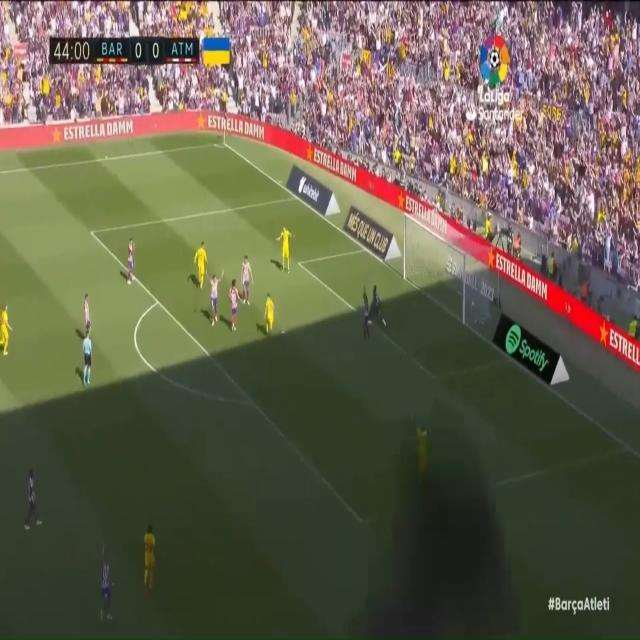ball: (469, 299, 476, 310)
goalkeeper: (366, 281, 392, 333)
player: (403, 397, 432, 476), (21, 469, 45, 538), (275, 218, 301, 275), (99, 553, 116, 632), (141, 522, 158, 591), (209, 257, 224, 332), (192, 236, 207, 303), (226, 269, 242, 330), (2, 295, 16, 363), (240, 252, 256, 309), (360, 282, 373, 342), (260, 291, 275, 342), (81, 295, 94, 348), (126, 228, 136, 289)
referee: (79, 328, 97, 385)
